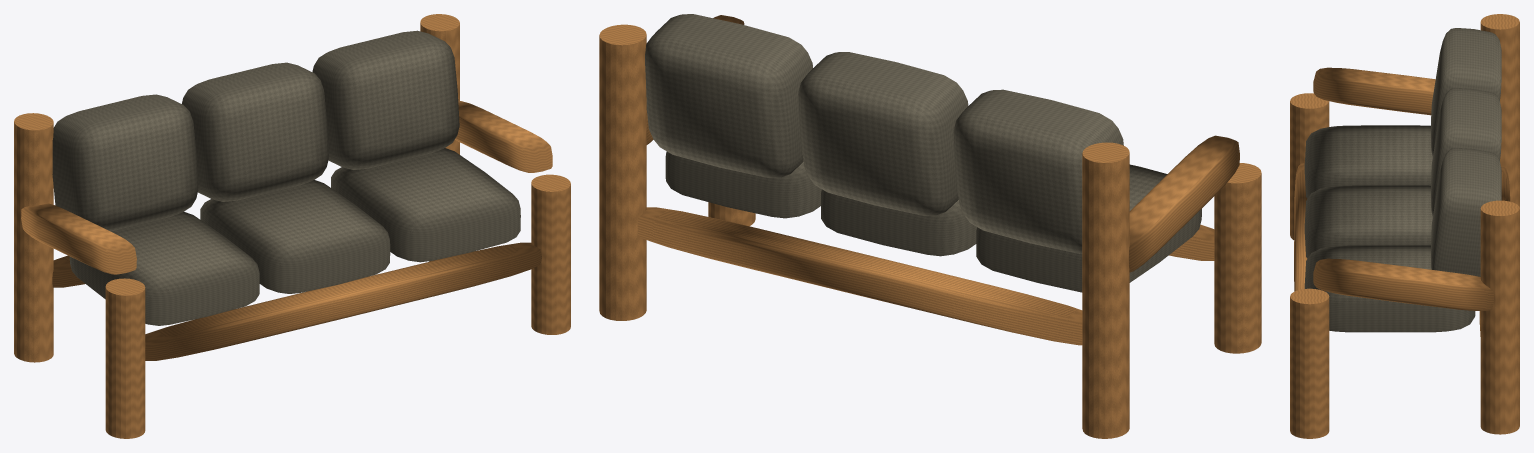
3 renders of one model, left to right at view 1: azimuth 30°, elevation 25°; view 2: azimuth 150°, elevation 25°; view 3: azimuth 270°, elevation 25°, orthographic. The views are drawn at different scales.
Visible parts, largest first — view 1: 12 back_cushion_left, 13 back_cushion_center, 14 back_cushion_right, 10 seat_cushion_center, 11 seat_cushion_right, 7 front_rail, 9 seat_cushion_left, 3 back_left_post, 1 front_left_post, 2 front_right_post, 5 left_armrest, 6 right_armrest (+2 smaller); view 2: 13 back_cushion_center, 14 back_cushion_right, 12 back_cushion_left, 8 back_rail, 3 back_left_post, 4 back_right_post, 1 front_left_post, 5 left_armrest, 9 seat_cushion_left, 11 seat_cushion_right, 10 seat_cushion_center, 7 front_rail (+1 smaller); view 3: 4 back_right_post, 9 seat_cushion_left, 10 seat_cushion_center, 11 seat_cushion_right, 14 back_cushion_right, 6 right_armrest, 2 front_right_post, 5 left_armrest, 12 back_cushion_left, 13 back_cushion_center, 3 back_left_post, 1 front_left_post (+2 smaller).
Part boxes in pixels (x1,y1,x2,y2): 12 back_cushion_left: (52,94,198,231); 13 back_cushion_center: (182,62,328,201); 14 back_cushion_right: (312,30,459,169); 10 seat_cushion_center: (200,180,390,293); 11 seat_cushion_right: (331,148,520,262); 7 front_rail: (145,242,541,360); 9 seat_cushion_left: (69,212,259,325); 3 back_left_post: (14,113,53,362); 1 front_left_post: (105,278,145,438); 2 front_right_post: (531,174,570,334); 5 left_armrest: (21,203,136,274); 6 right_armrest: (455,101,552,172); 13 back_cushion_center: (798,52,968,215); 14 back_cushion_right: (645,14,812,177); 12 back_cushion_left: (953,89,1123,253); 8 back_rail: (637,207,1082,345); 3 back_left_post: (1082,142,1129,438); 4 back_right_post: (599,24,646,320); 1 front_left_post: (1214,163,1261,353); 5 left_armrest: (1129,135,1239,272); 9 seat_cushion_left: (976,164,1201,292); 11 seat_cushion_right: (665,151,821,218); 10 seat_cushion_center: (821,189,976,256); 7 front_rail: (1169,224,1214,260); 4 back_right_post: (1480,200,1519,434); 9 seat_cushion_left: (1304,125,1432,198); 10 seat_cushion_center: (1304,185,1432,258); 11 seat_cushion_right: (1304,245,1475,332); 14 back_cushion_right: (1431,148,1501,276); 6 right_armrest: (1313,258,1494,310); 2 front_right_post: (1290,288,1329,438); 5 left_armrest: (1313,67,1435,115); 12 back_cushion_left: (1431,28,1501,156); 13 back_cushion_center: (1431,88,1501,216); 3 back_left_post: (1480,14,1519,207); 1 front_left_post: (1290,93,1329,239).
Bounding box in the file's own units: 2 × 1 × 0.92.
Materials: 2 (2 with a texture image).
